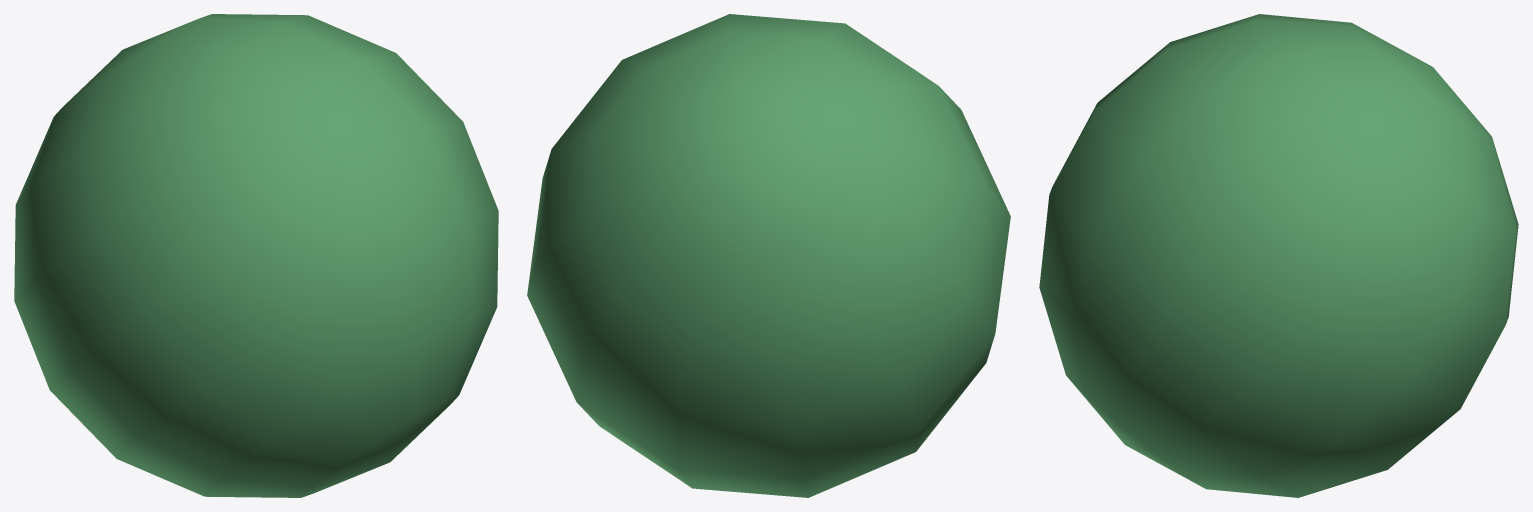
3 views of the same model, side by side, from view 1: azimuth 30°, elevation 25°; view 2: azimuth 150°, elevation 25°; view 3: azimuth 270°, elevation 25° (orthographic).
Parts seen in each view (by area): view 1: 左侧颈内静脉二腹肌淋巴结; view 2: 左侧颈内静脉二腹肌淋巴结; view 3: 左侧颈内静脉二腹肌淋巴结.
Part boxes in pixels (x1,y1,x2,y2): 左侧颈内静脉二腹肌淋巴结: (14,14,498,497); 左侧颈内静脉二腹肌淋巴结: (527,14,1010,497); 左侧颈内静脉二腹肌淋巴结: (1039,14,1518,497).
Bounding box in the file's own units: 0.0038 × 0.00378 × 0.00376.
